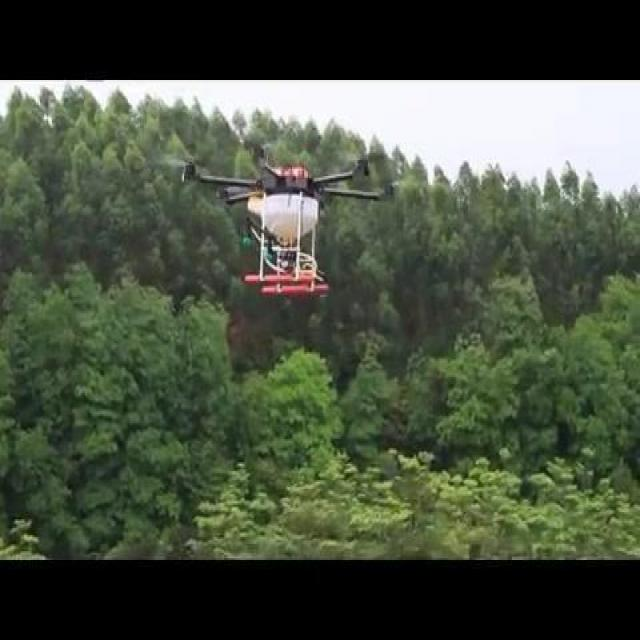UAV: (179, 140, 385, 298)
